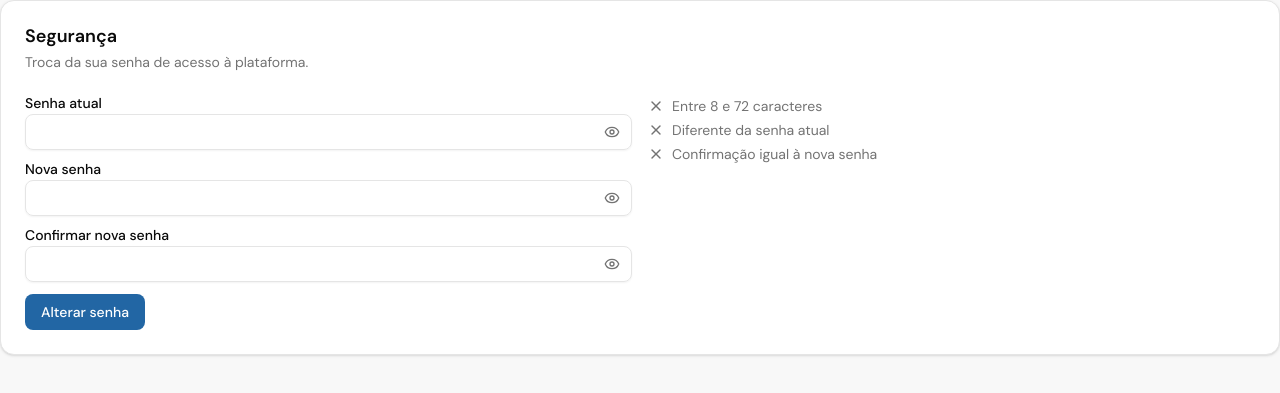
SegurancaSection — ligada (só no teste) › 422 SENHA_ATUAL_INVALIDA → erro no campo, sem modal de sessão
In the password field labelled "Senha atual": (328,132) x1=25 y1=114 x2=632 y2=150, type "antiga-123456"
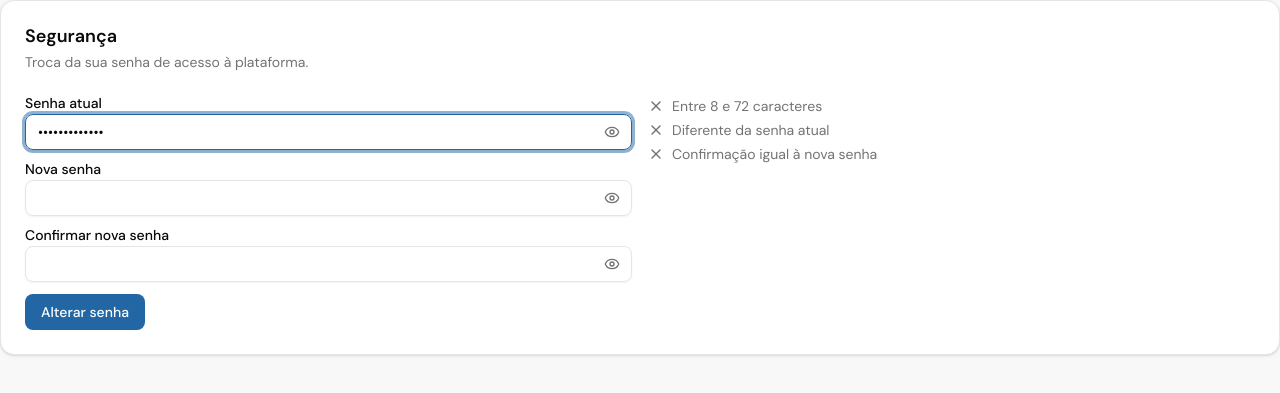
In the password field labelled "Nova senha": (328,198) x1=25 y1=180 x2=632 y2=216, type "NovaSenha-2026x"
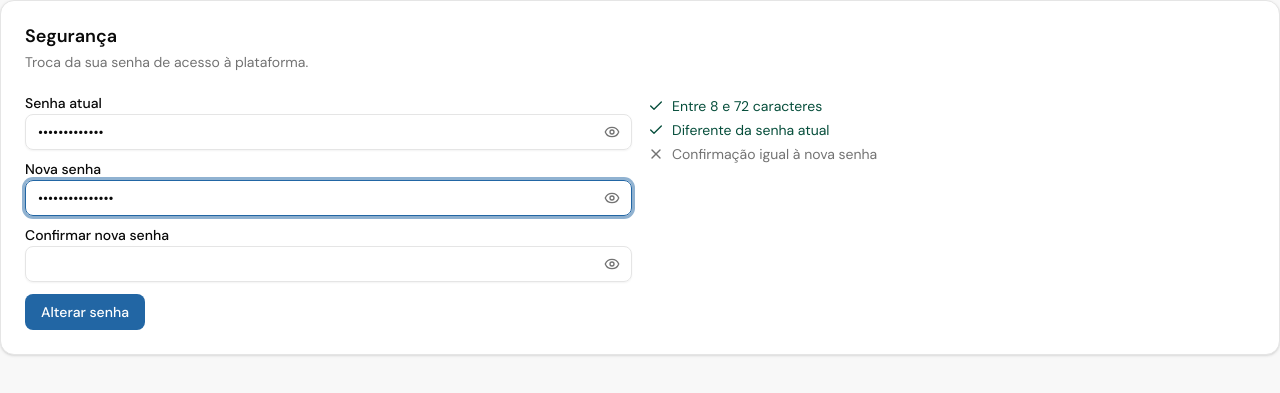
In the password field labelled "Confirmar nova senha": (328,264) x1=25 y1=246 x2=632 y2=282, type "NovaSenha-2026x"
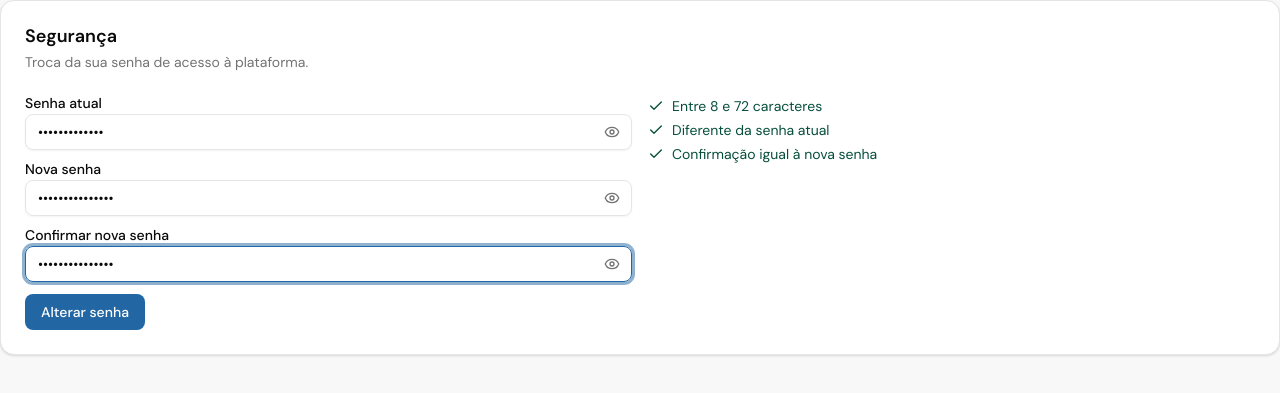
Click the button "Alterar senha": (85,312) x1=25 y1=294 x2=145 y2=330
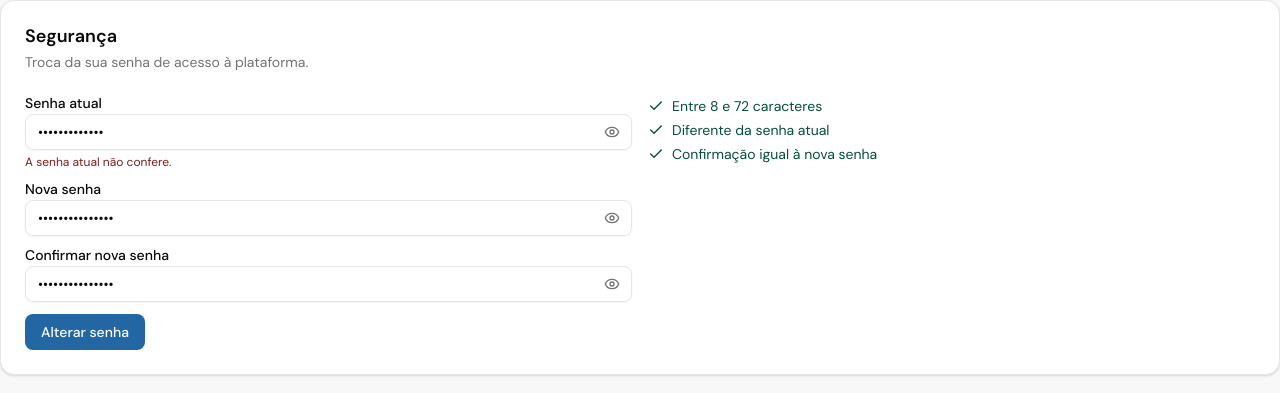
Check: the text "A senha atual não confere." is shown, box x1=25 y1=154 x2=172 y2=170
